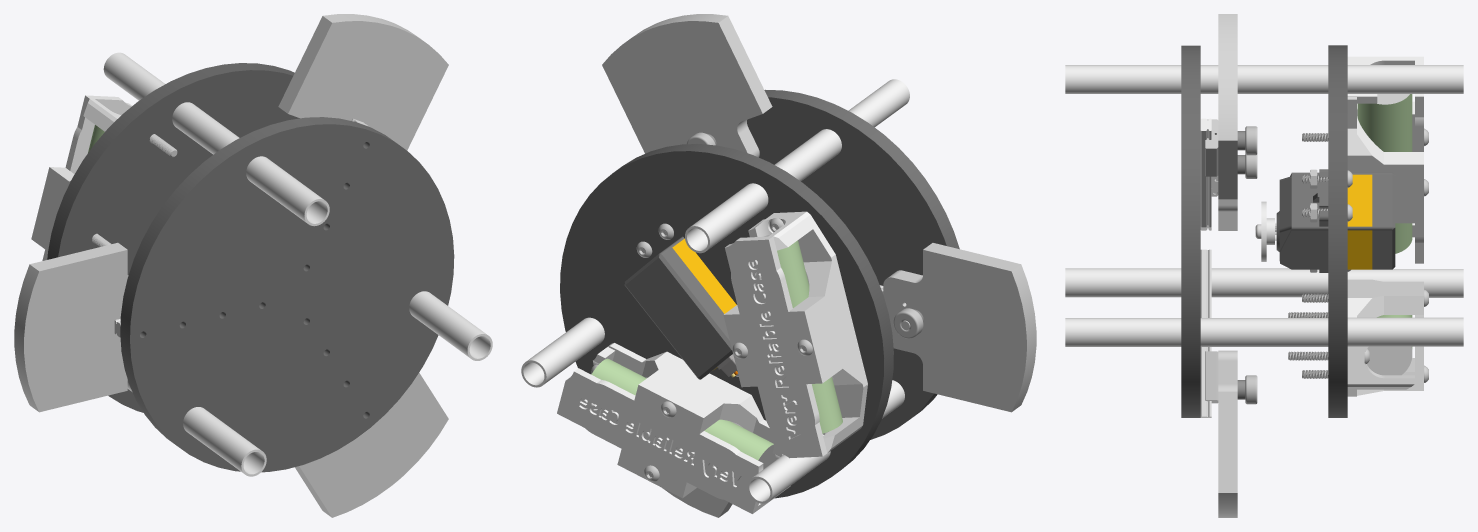
The model's file is Airbrakes Assembly.glb.
3 views of the same model, side by side, from view 1: azimuth 30°, elevation 25°; view 2: azimuth 150°, elevation 25°; view 3: azimuth 270°, elevation 25° (orthographic).
Parts seen in each view (by area): view 1: Bottom Plate (×2), Extending Plate (×3), Upper/Lower Spacer Tube (×4), Other Battery Lid, Other Battery Holder, Middle Spacer Tube; view 2: Bottom Plate (×2), Extending Plate (×3), Other Battery Lid, Battery Lid, Upper/Lower Spacer Tube (×4), Other Battery Holder, Servo Body, Battery Holder, Li Ion Battery (×2), Middle Spacer Tube, Part 1; view 3: Upper/Lower Spacer Tube (×6), Bottom Plate (×2), Middle Spacer Tube (×3), Servo Body, Extending Plate (×3), Li Ion Battery (×2), Other Battery Holder, Battery Holder, 6709K124_55 mm Long x 5 mm Wide Standard Guide Rail for Ball (×2), Other Battery Lid, 6709K111_Ball Bearing Carriage (×2), Battery Lid (+1 smaller).
Boxes of the visible parts, box(x1,y1,x2,y2) form: Bottom Plate (×2): box(47, 63, 454, 472); Extending Plate (×3): box(14, 14, 448, 517); Upper/Lower Spacer Tube (×4): box(103, 52, 492, 476); Other Battery Lid: box(31, 95, 131, 260); Other Battery Holder: box(36, 99, 120, 250); Middle Spacer Tube: box(172, 102, 239, 154); Bottom Plate (×2): box(560, 89, 959, 498); Extending Plate (×3): box(602, 14, 1036, 517); Other Battery Lid: box(723, 236, 826, 458); Battery Lid: box(557, 368, 763, 513); Upper/Lower Spacer Tube (×4): box(521, 79, 909, 503); Other Battery Holder: box(728, 211, 867, 452); Servo Body: box(624, 236, 737, 379); Battery Holder: box(591, 343, 790, 510); Li Ion Battery (×2): box(591, 234, 842, 469); Middle Spacer Tube: box(774, 129, 841, 181); Part 1: box(893, 308, 923, 338); Upper/Lower Spacer Tube (×6): box(1065, 65, 1463, 346); Bottom Plate (×2): box(1181, 45, 1347, 417); Middle Spacer Tube (×3): box(1200, 65, 1328, 346); Servo Body: box(1276, 169, 1395, 272); Extending Plate (×3): box(1218, 14, 1237, 517); Li Ion Battery (×2): box(1357, 94, 1412, 375); Other Battery Holder: box(1347, 56, 1414, 237); Battery Holder: box(1347, 279, 1414, 396); 6709K124_55 mm Long x 5 mm Wide Standard Guide Rail for Ball (×2): box(1200, 118, 1211, 417); Other Battery Lid: box(1415, 56, 1423, 263); 6709K111_Ball Bearing Carriage (×2): box(1205, 119, 1218, 403); Battery Lid: box(1415, 281, 1423, 390).
Size of the model in its own units: 0.1603 by 0.1784 by 0.1308.
